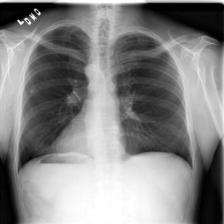normal: (12, 19, 196, 174)
